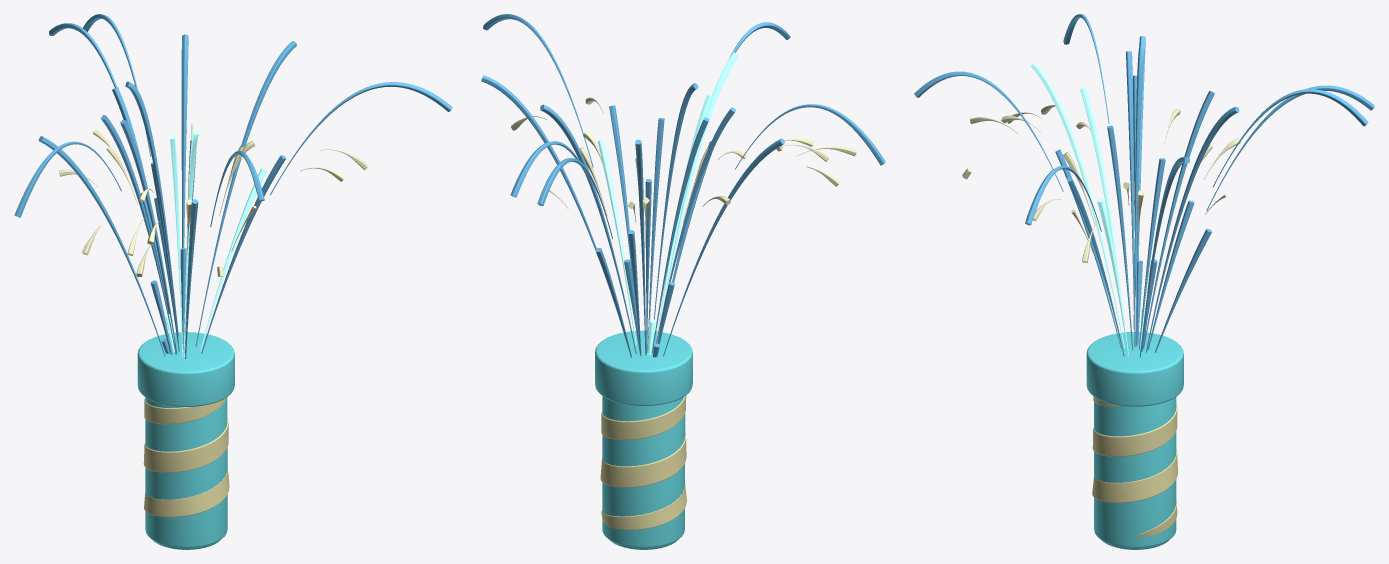
Rendered from fire.glb.
3 views of the same model, side by side, from view 1: azimuth 30°, elevation 25°; view 2: azimuth 150°, elevation 25°; view 3: azimuth 270°, elevation 25° (orthographic).
Parts seen in each view (by area): view 1: 扫描.1-材质.4, 扫描.1-材质.2, 扫描.1-材质.3, 扫描.1-材质.1, 扫描.1-材质; view 2: 扫描.1-材质.2, 扫描.1-材质.4, 扫描.1-材质.3, 扫描.1-材质.1, 扫描.1-材质; view 3: 扫描.1-材质.4, 扫描.1-材质.2, 扫描.1-材质.3, 扫描.1-材质.1, 扫描.1-材质.
Boxes of the visible parts, x1,y1,x2,y2 form: 扫描.1-材质.4: [137, 332, 234, 549]; 扫描.1-材质.2: [14, 14, 452, 358]; 扫描.1-材质.3: [143, 397, 229, 517]; 扫描.1-材质.1: [165, 129, 266, 357]; 扫描.1-材质: [59, 124, 368, 276]; 扫描.1-材质.2: [481, 14, 885, 357]; 扫描.1-材质.4: [595, 330, 692, 549]; 扫描.1-材质.3: [600, 395, 686, 529]; 扫描.1-材质.1: [597, 52, 738, 355]; 扫描.1-材质: [511, 97, 856, 236]; 扫描.1-材质.4: [1086, 332, 1183, 549]; 扫描.1-材质.2: [914, 14, 1374, 357]; 扫描.1-材质.3: [1092, 396, 1177, 537]; 扫描.1-材质.1: [1031, 62, 1145, 356]; 扫描.1-材质: [962, 105, 1240, 262].
Size of the model in its own units: 9.38 by 9.95 by 8.94.
